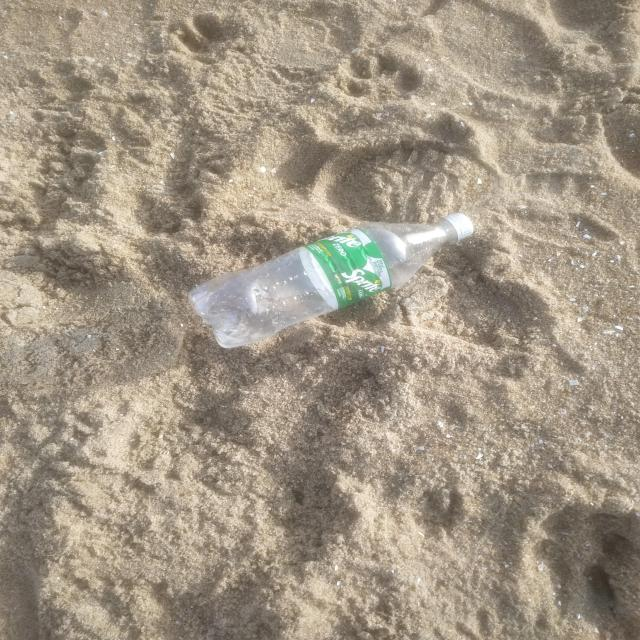litter: (188, 213, 473, 348)
